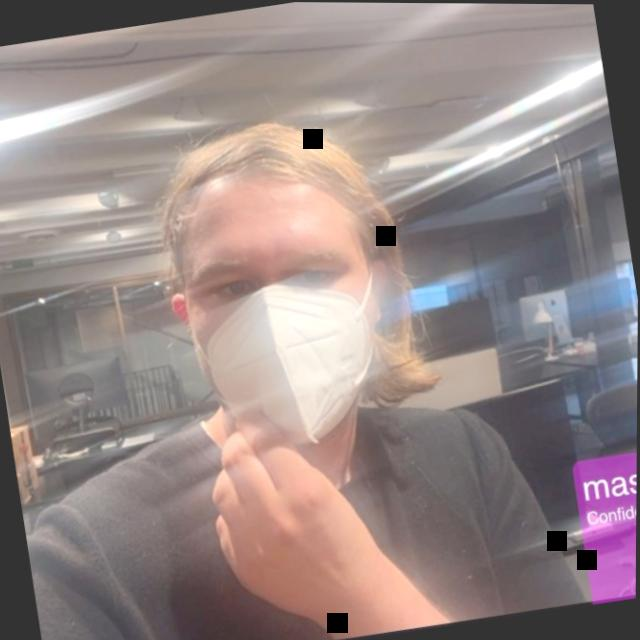Mask: (122, 80, 439, 459)
